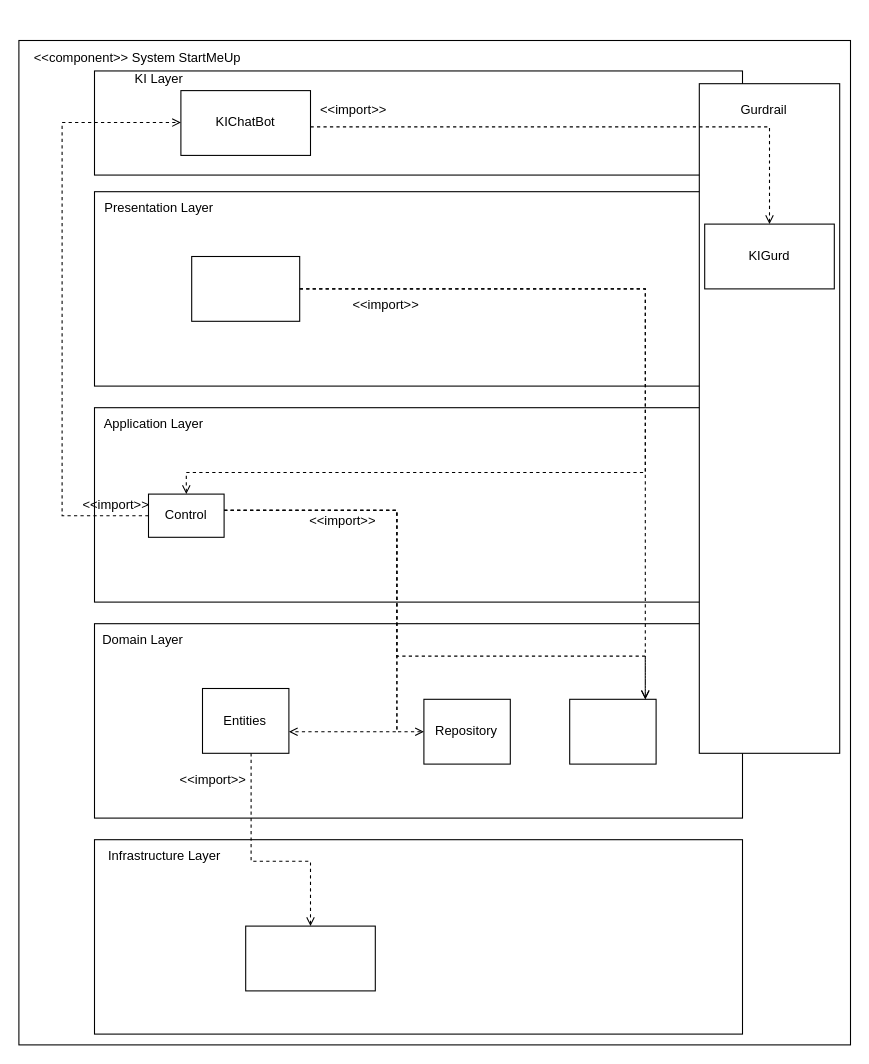
Some shapes in this 869 by 1064 pixel diagram are drawn without their labels. The shapes that lost their labels are listed below. From the top down, each one's centre as x and y in pixels, then its label:
the point at 245,288: Views
the point at 612,731: DTO
the point at 310,958: Datenbank
